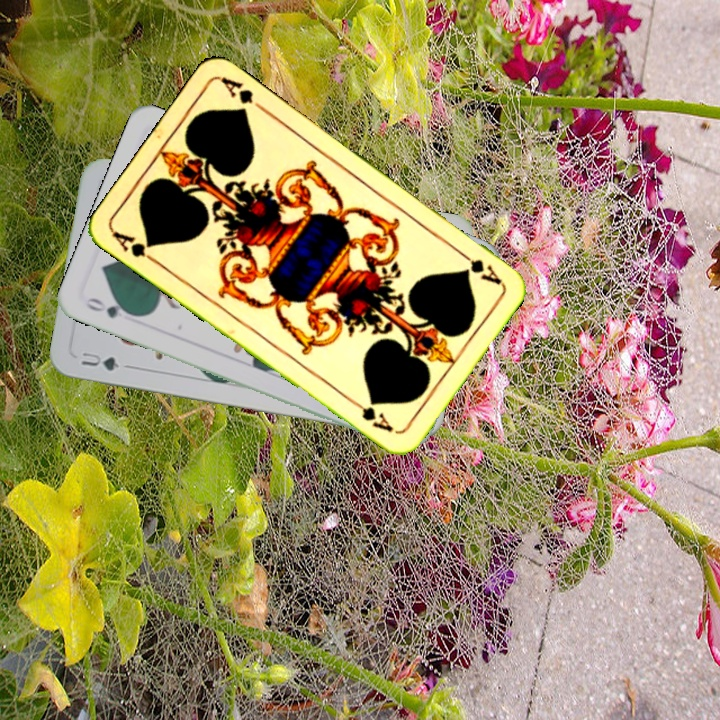GA: (453, 246, 505, 288), (108, 227, 162, 267)
GO: (82, 293, 139, 321)
GU: (77, 348, 132, 374)
